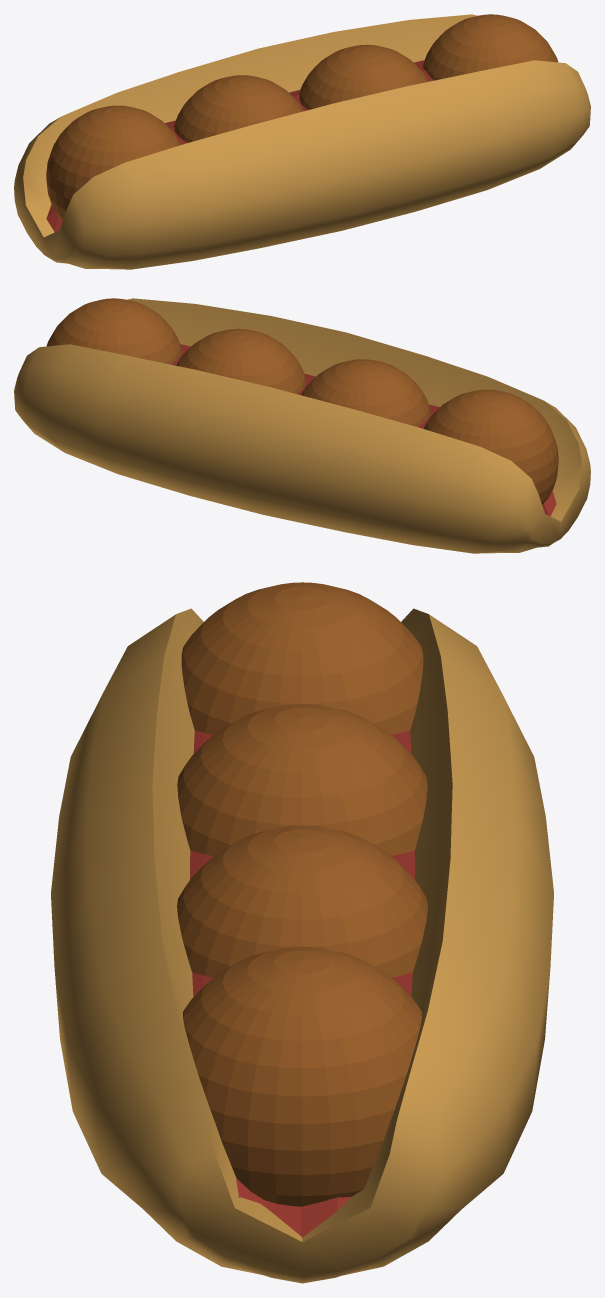
Rendered from 4_4_bun.fbx.
3 views of the same model, one above another, from view 1: azimuth 30°, elevation 25°; view 2: azimuth 150°, elevation 25°; view 3: azimuth 270°, elevation 25° (orthographic). The views are drawn at different scales.
Visible parts, largest first — view 1: Hotdog, Sphere.002, Sphere.003, Sphere.001, Sphere, Cylinder; view 2: Hotdog, Sphere.002, Sphere.003, Sphere.001, Sphere, Cylinder; view 3: Hotdog, Sphere.003, Sphere.001, Sphere, Sphere.002, Cylinder.
Part boxes in pixels (x1,y1,x2,y2): Hotdog: (14, 14, 590, 269); Sphere.002: (46, 105, 181, 220); Sphere.003: (422, 14, 558, 80); Sphere.001: (174, 75, 303, 142); Sphere: (299, 44, 428, 109); Cylinder: (46, 60, 433, 232); Hotdog: (14, 298, 590, 553); Sphere.002: (423, 389, 558, 504); Sphere.003: (46, 298, 182, 364); Sphere.001: (301, 359, 430, 426); Sphere: (176, 328, 306, 393); Cylinder: (170, 344, 556, 516); Hotdog: (51, 608, 553, 1283); Sphere.003: (183, 946, 421, 1206); Sphere.001: (177, 704, 427, 855); Sphere: (177, 825, 427, 977); Sphere.002: (181, 582, 423, 734); Cylinder: (190, 730, 414, 1237).
Size of the model in its own units: 50.47 by 14 by 21.02.
